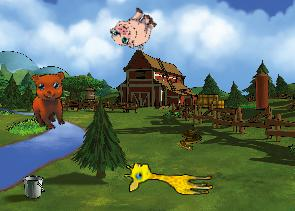bear: (23, 66, 79, 133)
giraffe: (123, 161, 214, 195)
pig: (106, 1, 161, 57)
